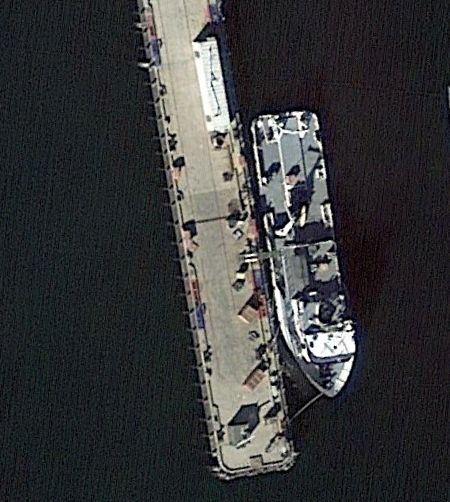boat: (248, 109, 361, 400)
